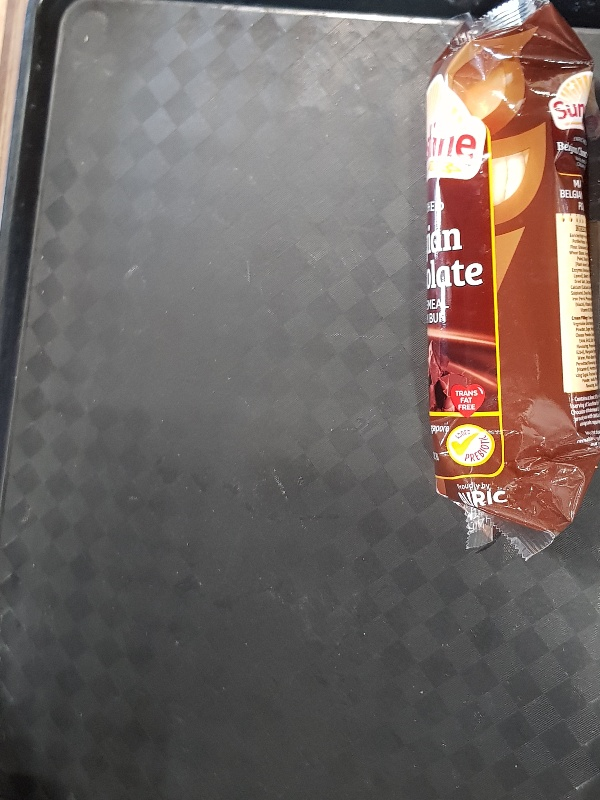Sunshine Belgium Chocolate Wholemeal Cream Bun: (423, 2, 600, 563)
